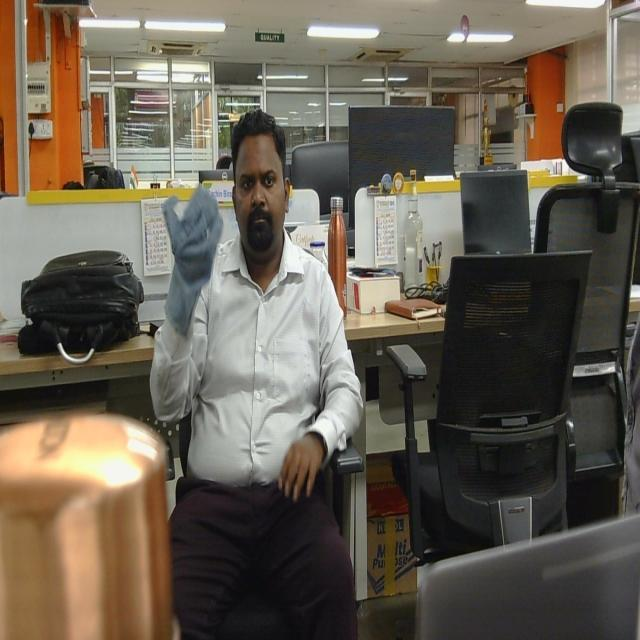Gloves-Detection: (162, 180, 222, 338)
